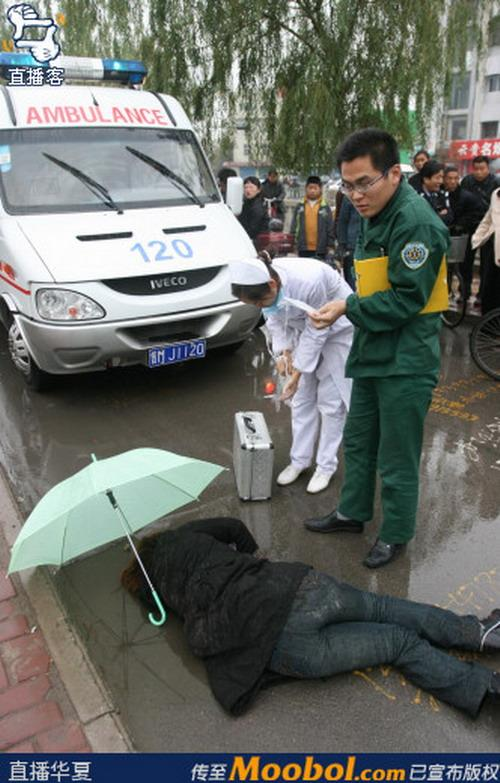bending: (227, 231, 357, 502)
down: (95, 486, 500, 739)
up: (319, 131, 452, 564)
